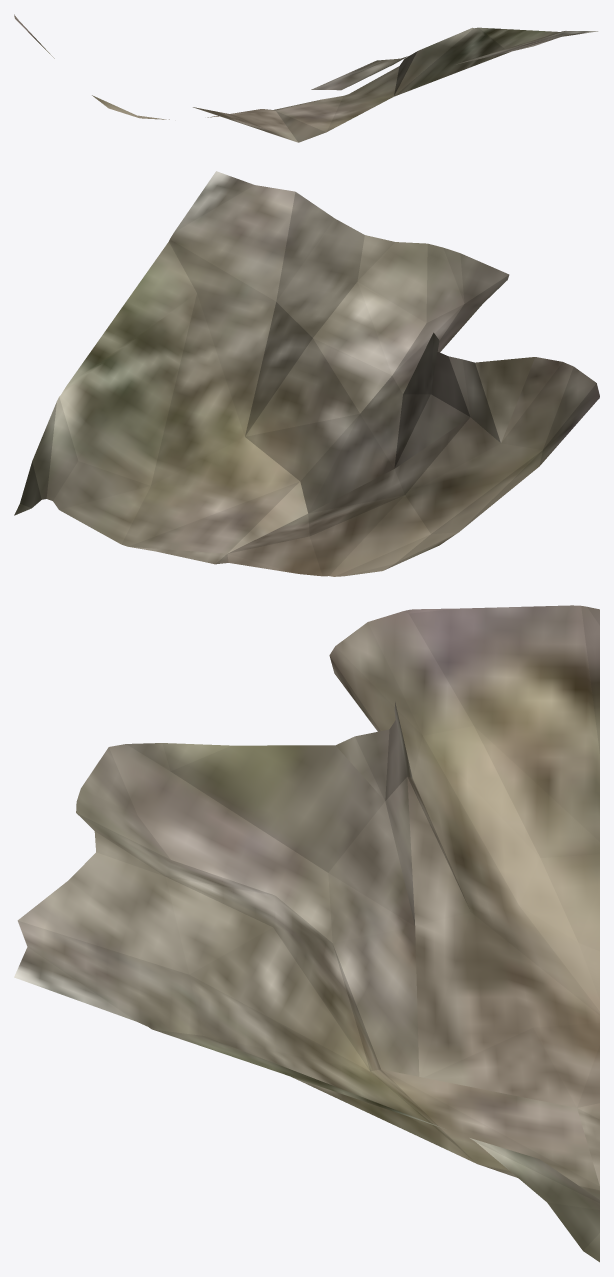
3 views of the same model, one above another, from view 1: azimuth 30°, elevation 25°; view 2: azimuth 150°, elevation 25°; view 3: azimuth 270°, elevation 25° (orthographic). The views are drawn at different scales.
Size of the model in its own units: 0.8588 by 0.3118 by 0.5717.
1 material, 1 textured.
